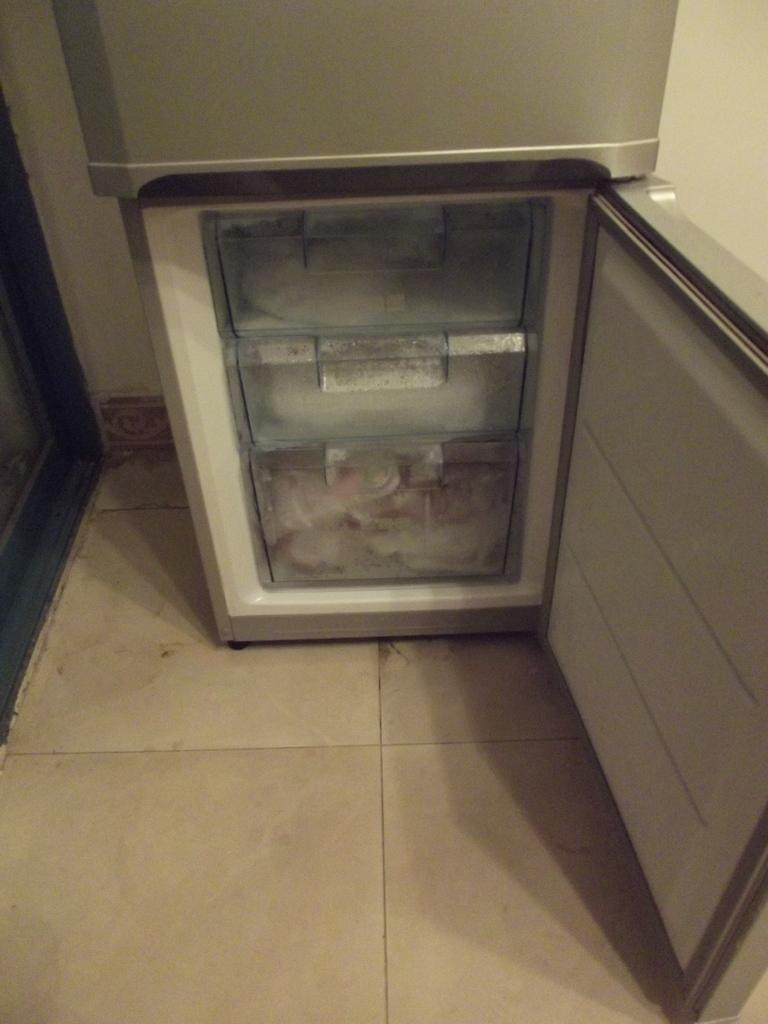handle: (118, 152, 614, 209)
